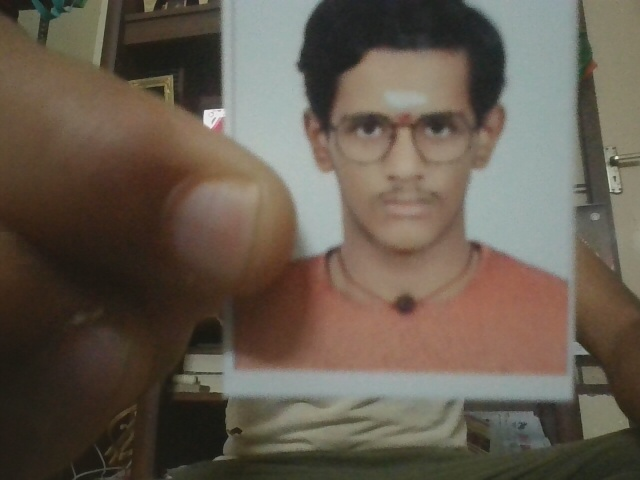fake: (298, 49, 512, 263)
